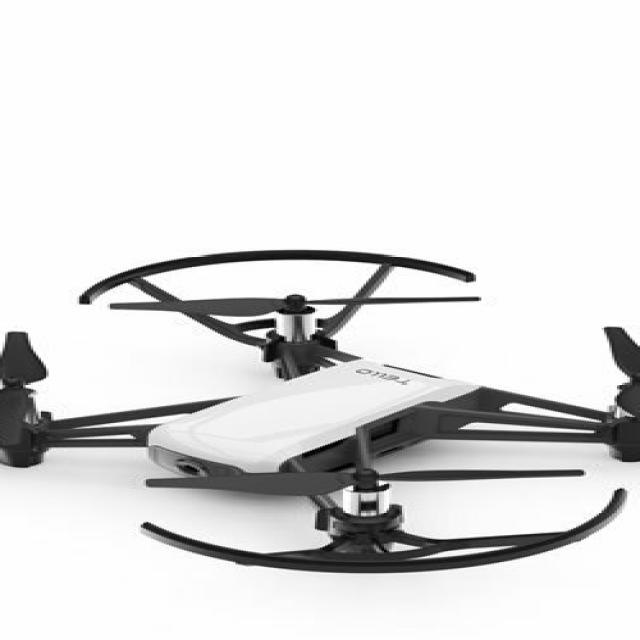drone: (0, 248, 640, 582)
